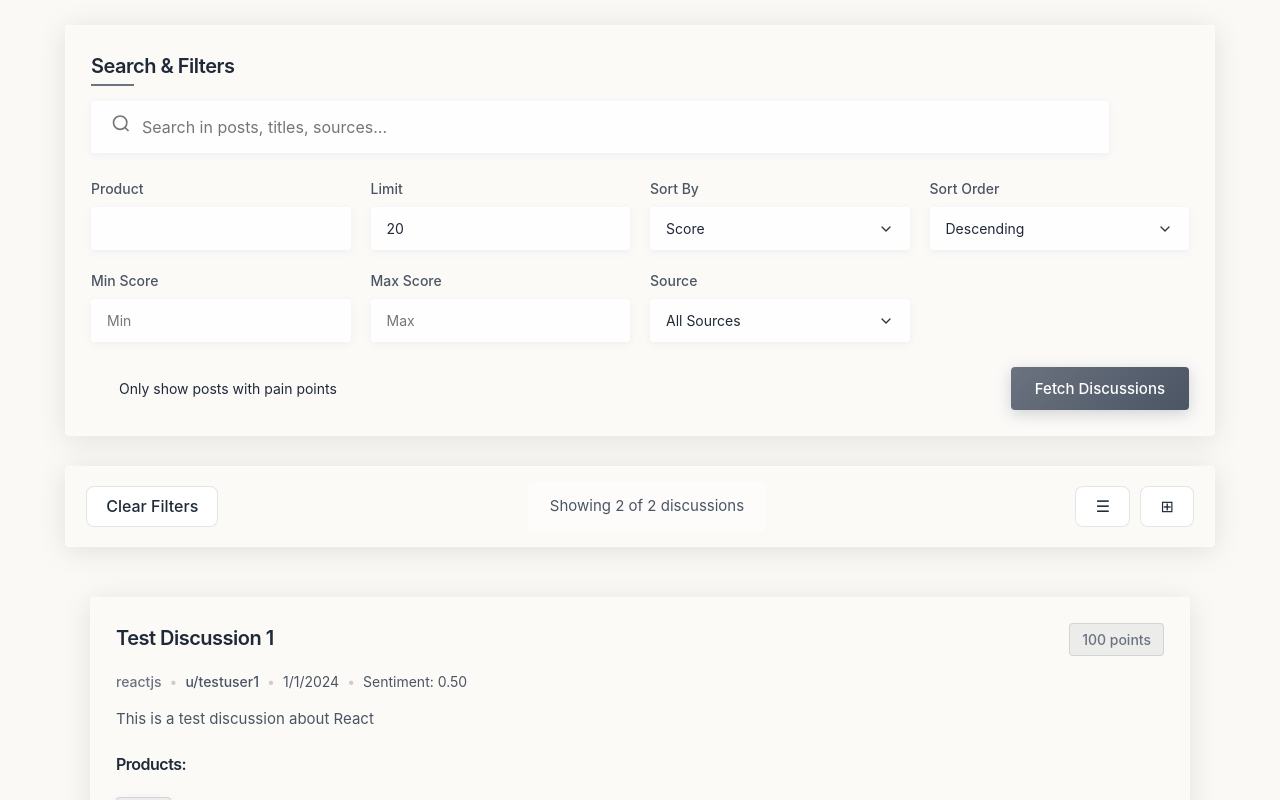
Test case: PostsPage › filters discussions by search term
Expected: the heading "Test Discussion 1" is shown, x1=116 y1=622 x2=274 y2=652
Type "React" into the field with placeholder "Search in posts, titles, sources...".
click(600, 127); type("React")  # box x1=91 y1=101 x2=1109 y2=153
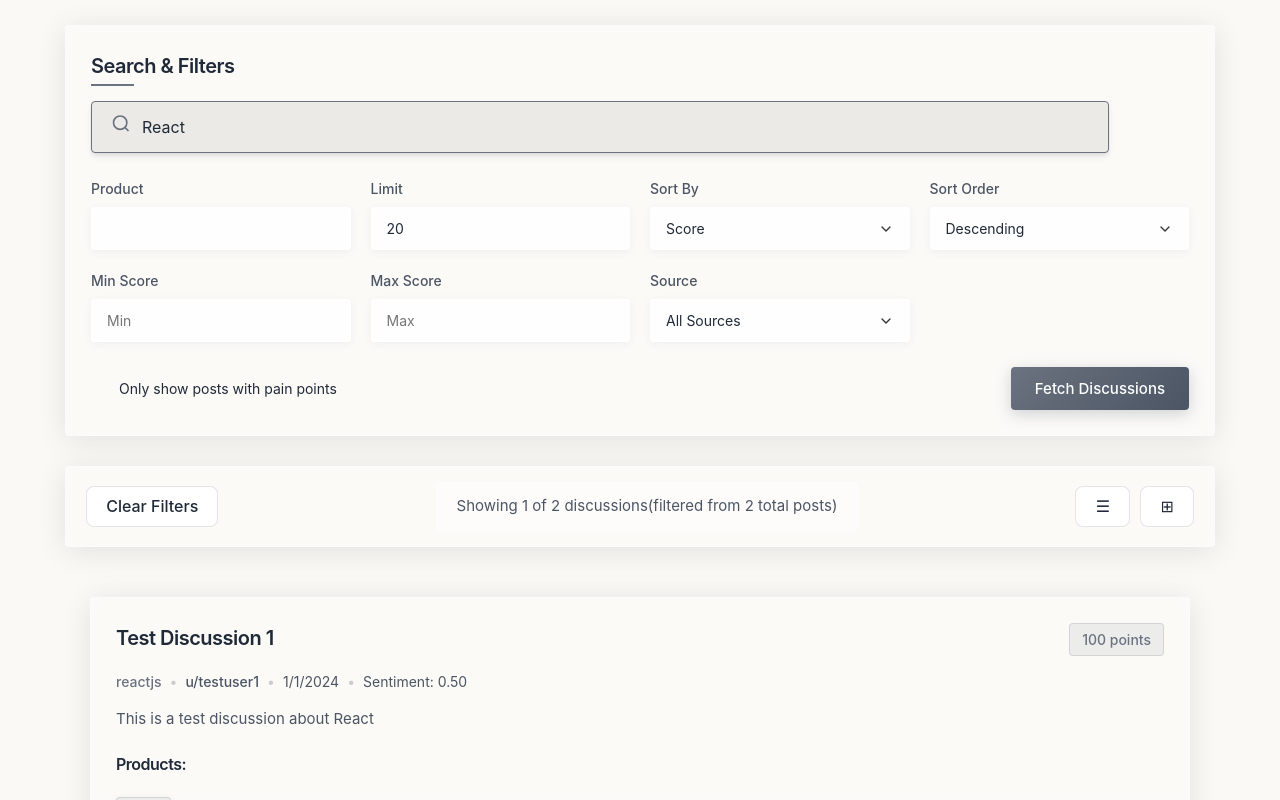
Expected: the heading "Test Discussion 1" is shown, x1=116 y1=622 x2=274 y2=652
Expected: the text "Showing 1 of 2 discussions" is shown, x1=457 y1=496 x2=648 y2=515
